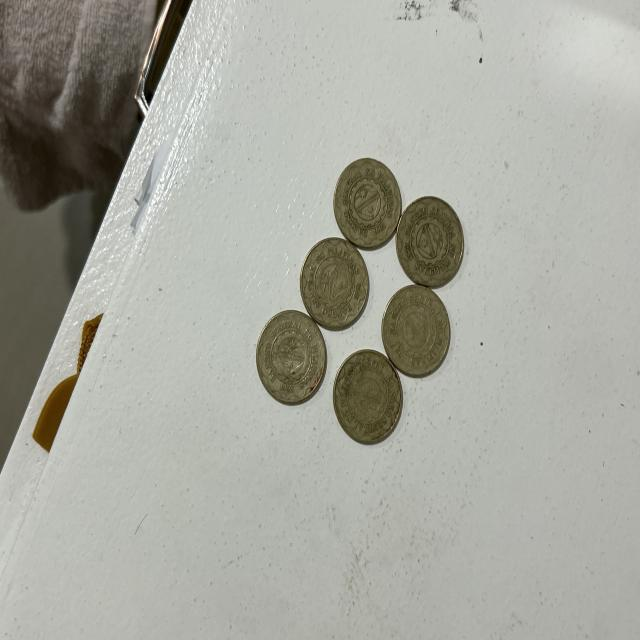5_Old_Back: (331, 347, 412, 460), (252, 304, 331, 412), (301, 221, 372, 327), (381, 275, 454, 376), (396, 188, 464, 287), (336, 154, 394, 251)
